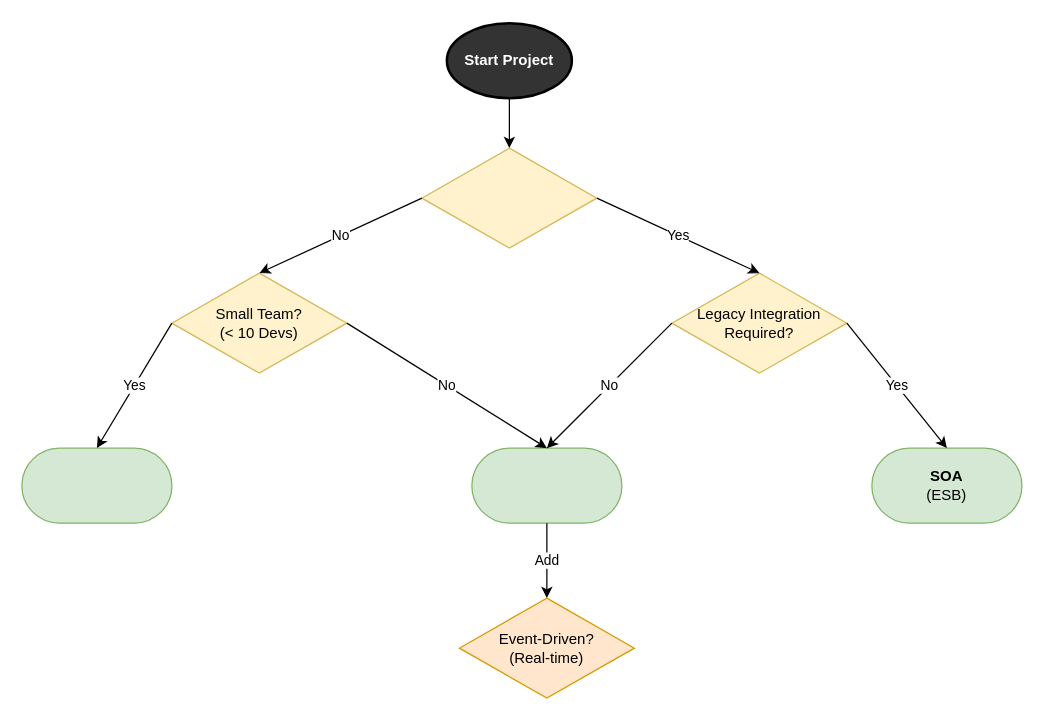
Some shapes in this 1044 by 720 pixel diagram are drawn without their labels. The shapes that lost their labels are listed below. From the top down, each one's centre as x and y in pixels, then its label:
[509,197]: Is the domain complex / large?
[96,485]: Monolithic (Modular)
[546,485]: Microservices
